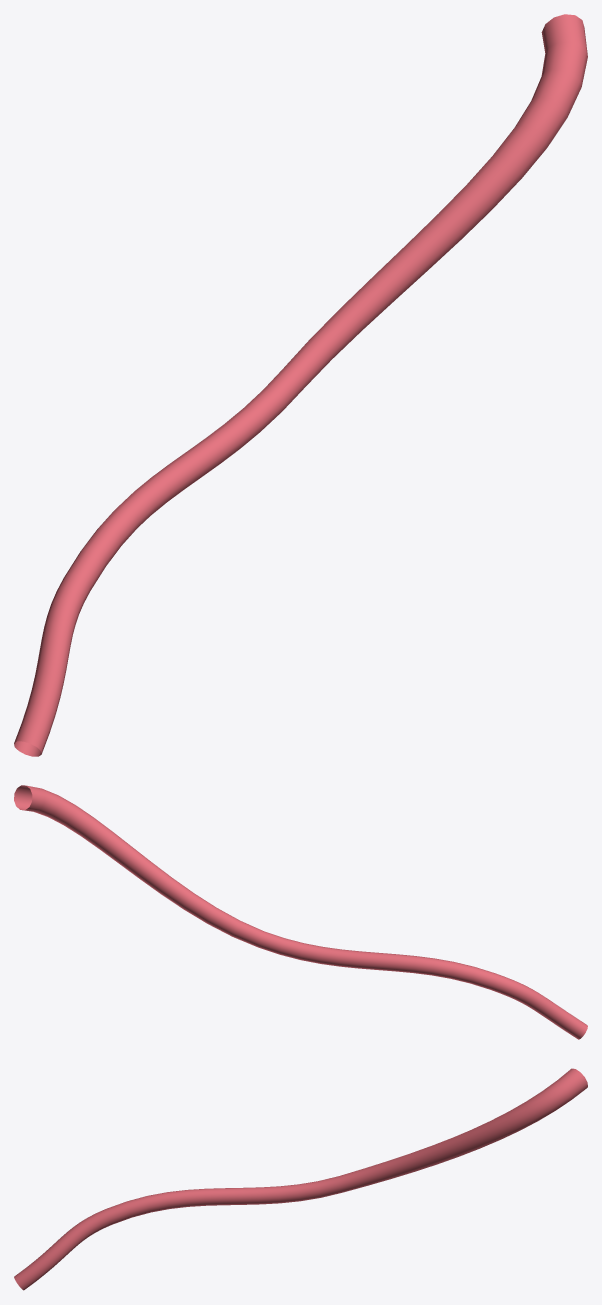
3 renders of one model, top to bottom at view 1: azimuth 30°, elevation 25°; view 2: azimuth 150°, elevation 25°; view 3: azimuth 330°, elevation 25°, orthographic. The views are drawn at different scales.
Parts seen in each view (by area): view 1: ZA_b1132d5221c28839; view 2: ZA_b1132d5221c28839; view 3: ZA_b1132d5221c28839.
Part boxes in pixels (x1=…): ZA_b1132d5221c28839: x1=14, y1=14, x2=587, y2=756; ZA_b1132d5221c28839: x1=14, y1=785, x2=587, y2=1039; ZA_b1132d5221c28839: x1=14, y1=1068, x2=587, y2=1290.
Bounding box in the file's own units: 0.0407 × 0.0204 × 0.0205.
